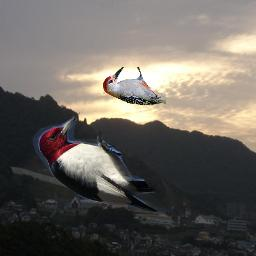Woodpecker: (32, 112, 166, 214), (103, 67, 166, 105)
